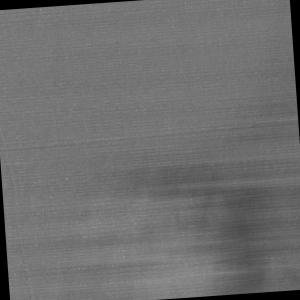Wrinkle: (2, 146, 300, 300)
